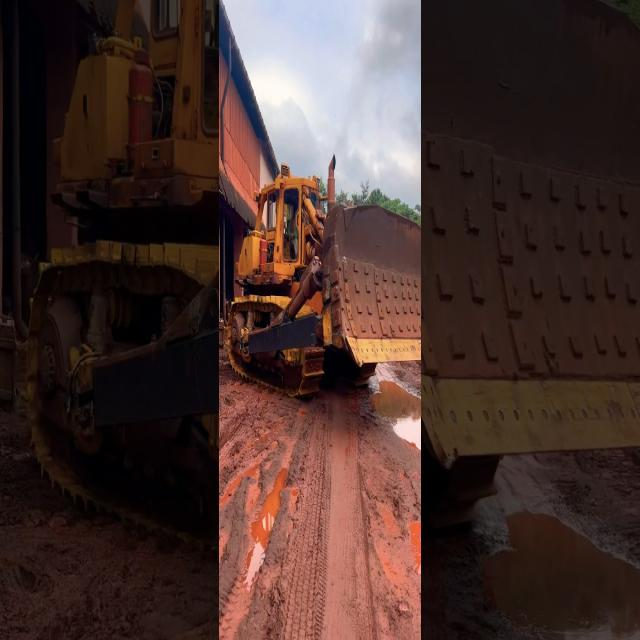buldozerpayloadergrader: (19, 0, 218, 532), (243, 161, 423, 411)
